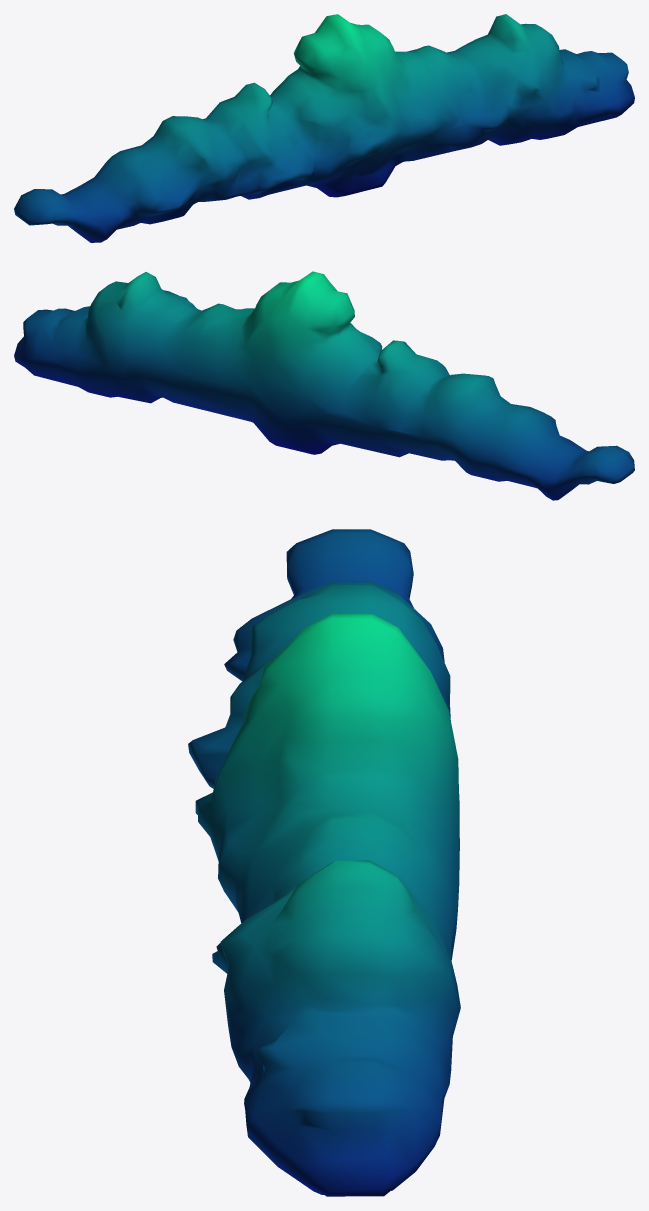
The model's file is env_sky_cloudlow_2.fbx.
The picture shows the model from 3 angles, top to bottom: view 1: azimuth 30°, elevation 25°; view 2: azimuth 150°, elevation 25°; view 3: azimuth 270°, elevation 25°; orthographic projection. The views are drawn at different scales.
Parts seen in each view (by area): view 1: env_sky_cloudlow_2; view 2: env_sky_cloudlow_2; view 3: env_sky_cloudlow_2.
Part boxes in pixels (bbox=[...]): env_sky_cloudlow_2: bbox=[14, 14, 634, 242]; env_sky_cloudlow_2: bbox=[14, 271, 634, 500]; env_sky_cloudlow_2: bbox=[188, 529, 460, 1196].
Size of the model in its own units: 8.74 by 2.33 by 1.7.
